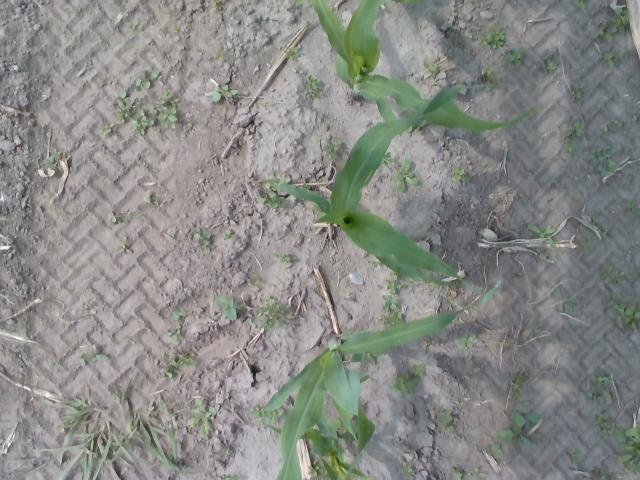Maize: (258, 279, 502, 480), (266, 84, 482, 293), (308, 0, 540, 133), (266, 401, 374, 480), (296, 0, 422, 6)
Weeds: (40, 380, 205, 480), (496, 408, 546, 450), (115, 89, 155, 135), (378, 269, 406, 328), (250, 295, 294, 331), (604, 288, 640, 332), (614, 422, 640, 476), (594, 6, 628, 44), (256, 170, 290, 208), (188, 398, 216, 436), (324, 415, 360, 444), (588, 145, 620, 177), (156, 88, 179, 130), (586, 373, 614, 405), (163, 352, 193, 381), (526, 222, 556, 248), (396, 159, 418, 194), (511, 368, 530, 408), (480, 22, 507, 50), (250, 405, 284, 426), (389, 372, 419, 395), (552, 288, 578, 314), (594, 410, 616, 440), (308, 458, 336, 480), (215, 296, 238, 320), (208, 85, 238, 103), (302, 74, 324, 98), (589, 217, 611, 240), (134, 70, 160, 89), (194, 226, 212, 252), (436, 408, 454, 433), (602, 263, 623, 283), (603, 50, 626, 68), (562, 120, 584, 138), (350, 351, 378, 365), (582, 467, 612, 480), (505, 46, 524, 66), (108, 212, 139, 223), (44, 150, 64, 167), (80, 352, 110, 363), (458, 332, 476, 350), (323, 140, 341, 158), (377, 150, 396, 167), (409, 361, 427, 378), (482, 63, 496, 84), (486, 442, 504, 458), (572, 80, 588, 98), (452, 166, 470, 182), (624, 199, 640, 216), (578, 238, 596, 253), (568, 448, 584, 464), (312, 202, 328, 218), (406, 120, 427, 132), (401, 465, 416, 480), (534, 248, 550, 262), (170, 306, 186, 320), (564, 137, 578, 153), (544, 59, 558, 75), (424, 60, 438, 76), (144, 194, 162, 206), (212, 47, 226, 62), (147, 403, 159, 420), (286, 47, 300, 60), (167, 330, 184, 340), (118, 243, 132, 255), (450, 467, 462, 480), (472, 468, 486, 479), (368, 256, 382, 267), (276, 252, 291, 262), (99, 126, 112, 137), (248, 276, 262, 286), (223, 233, 236, 243), (224, 473, 242, 480), (464, 356, 474, 366), (574, 0, 586, 8), (303, 182, 311, 191), (209, 453, 219, 460), (166, 231, 177, 237), (238, 302, 246, 310), (142, 163, 150, 171), (224, 446, 232, 453), (125, 22, 133, 29), (172, 26, 180, 32), (507, 338, 514, 343), (45, 0, 50, 4), (212, 0, 216, 4)
